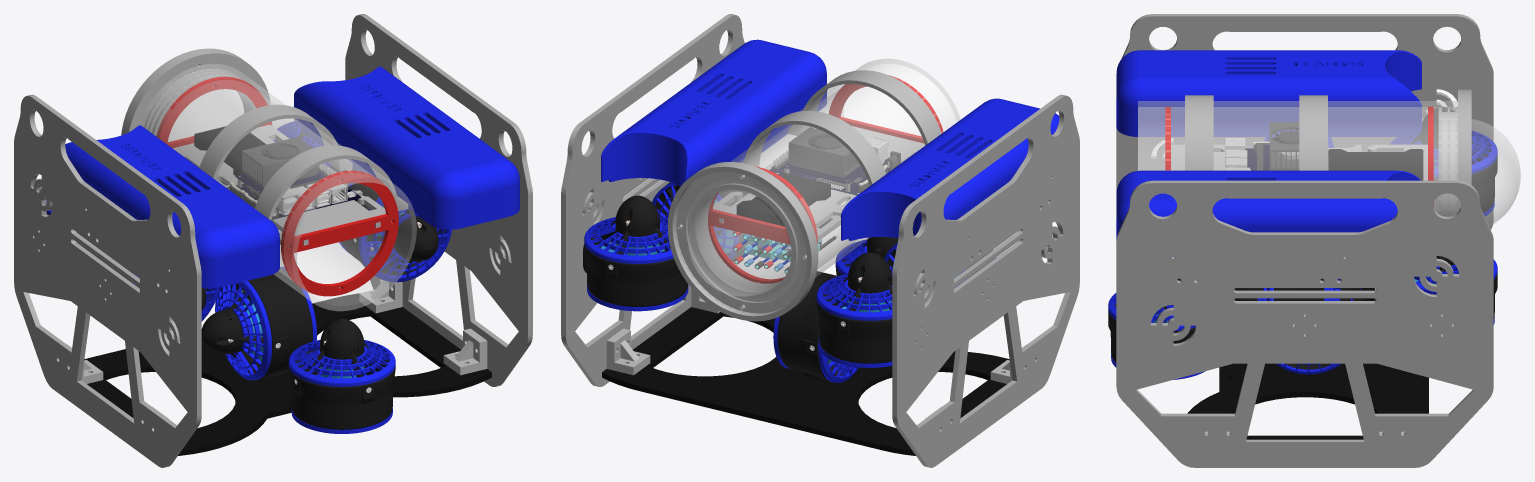
Rendered from assembly_rov_80.glb.
The picture shows the model from 3 angles, left to right: view 1: azimuth 30°, elevation 25°; view 2: azimuth 150°, elevation 25°; view 3: azimuth 270°, elevation 25°; orthographic projection. The views are drawn at different scales.
Visible parts, largest first — view 1: Solid1 (×16), Solid2 (×5), Solid5 (×3), Solid3 (×3), Solid4 (×2); view 2: Solid1 (×15), Solid5 (×4), Solid2 (×6), Solid3 (×2), Solid4; view 3: Solid1 (×14), Solid2 (×2), Solid5 (×2).
Boxes of the visible parts, x1,y1,x2,y2 form: Solid1 (×16): [14, 14, 532, 467]; Solid2 (×5): [156, 76, 451, 386]; Solid5 (×3): [226, 183, 445, 429]; Solid3 (×3): [201, 218, 438, 354]; Solid4 (×2): [222, 290, 383, 377]; Solid1 (×15): [561, 14, 1079, 467]; Solid5 (×4): [583, 182, 892, 381]; Solid2 (×6): [584, 75, 943, 382]; Solid3 (×2): [615, 195, 892, 287]; Solid4: [596, 220, 670, 254]; Solid1 (×14): [1116, 14, 1520, 467]; Solid2 (×2): [1390, 106, 1497, 207]; Solid5 (×2): [1108, 145, 1497, 362].
Size of the model in its own units: 0.35 by 0.2758 by 0.361.
